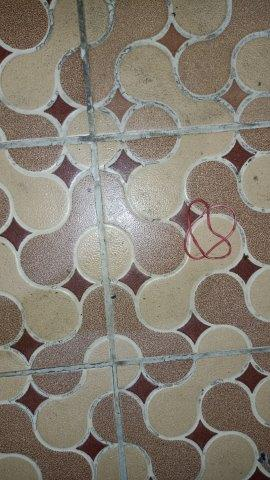karet: (184, 199, 238, 259)
